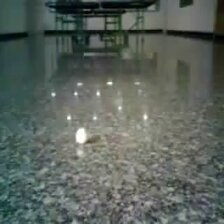w: (74, 126, 89, 145)
